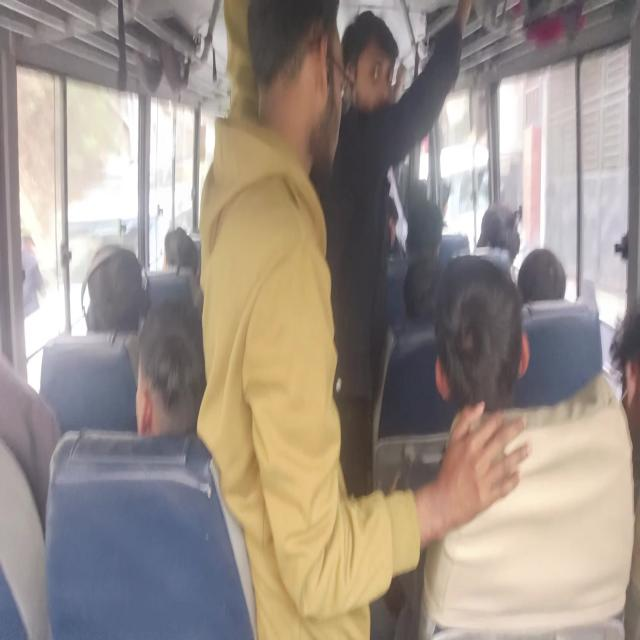person: (196, 0, 531, 638), (418, 252, 635, 638), (314, 0, 473, 501), (134, 297, 207, 437), (81, 243, 151, 336), (516, 247, 566, 302), (20, 228, 46, 318), (162, 226, 198, 275)
